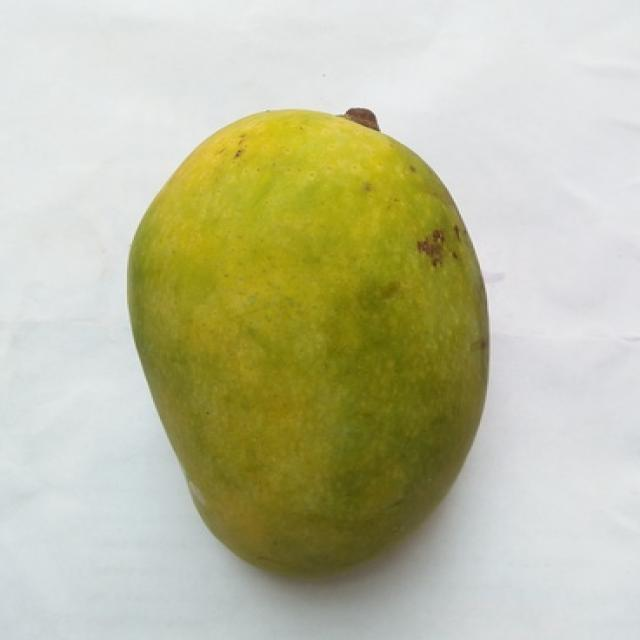Mango: (127, 110, 485, 573)
